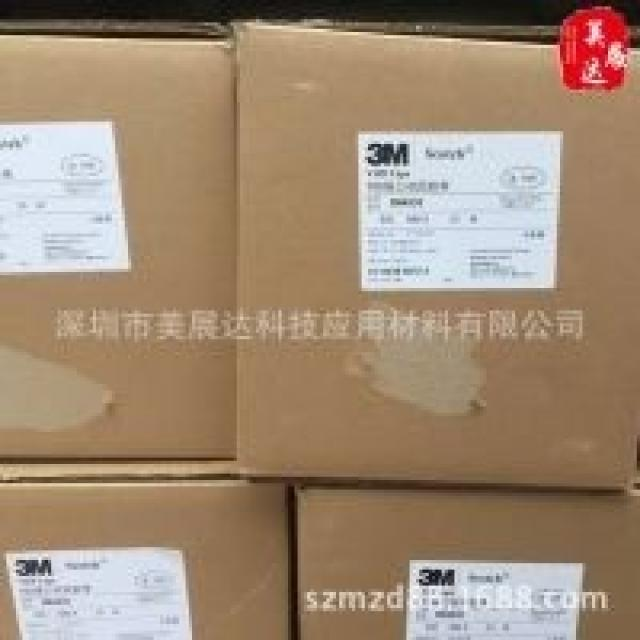box: (214, 22, 640, 490), (0, 19, 237, 458), (294, 483, 640, 640), (0, 458, 294, 640)
